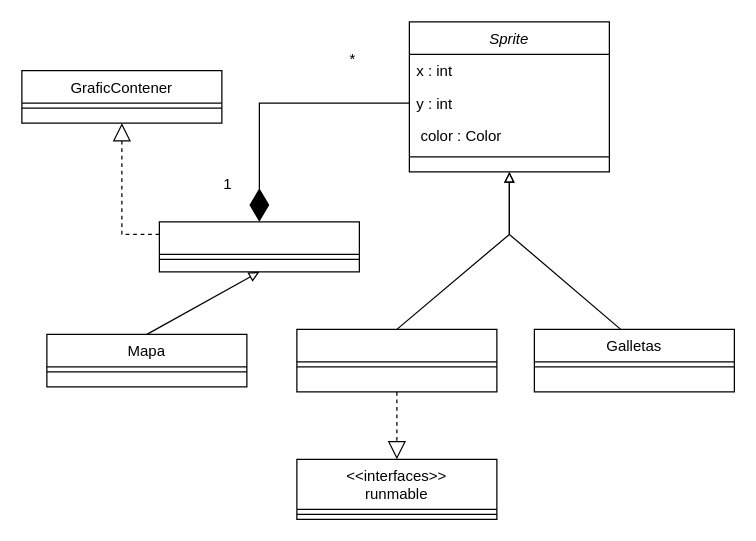
Some shapes in this 756 by 541 pixel diagram are drawn without their labels. The box of each missing label's shape, as (x1, y1, x2, y2) in pixels:
ComeGalletas: (296, 328, 497, 392)
SpriteContainer: (158, 221, 359, 272)
